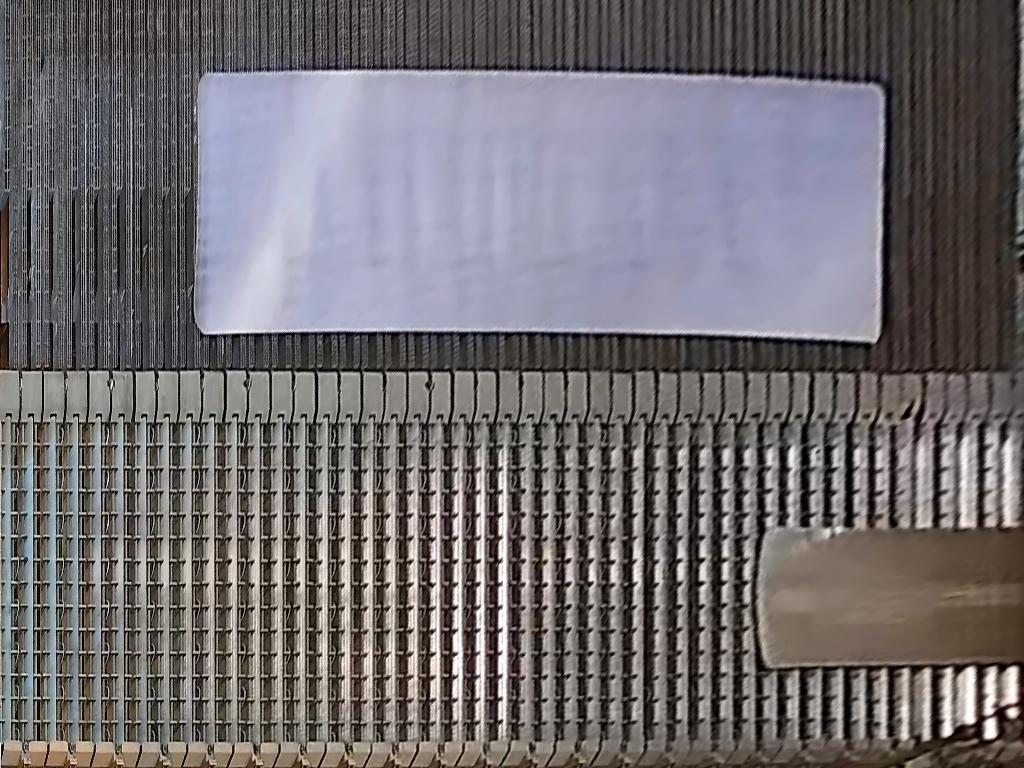steel: (194, 69, 883, 344), (761, 527, 1024, 668)
